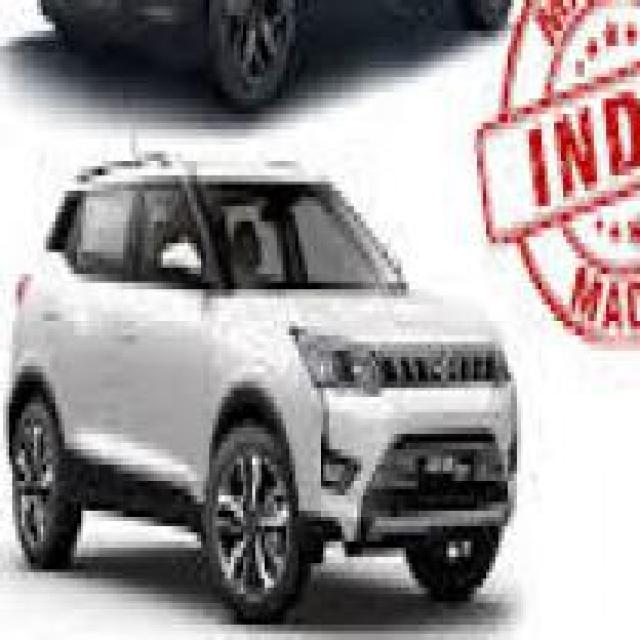car: (12, 88, 551, 635), (6, 0, 532, 65)
